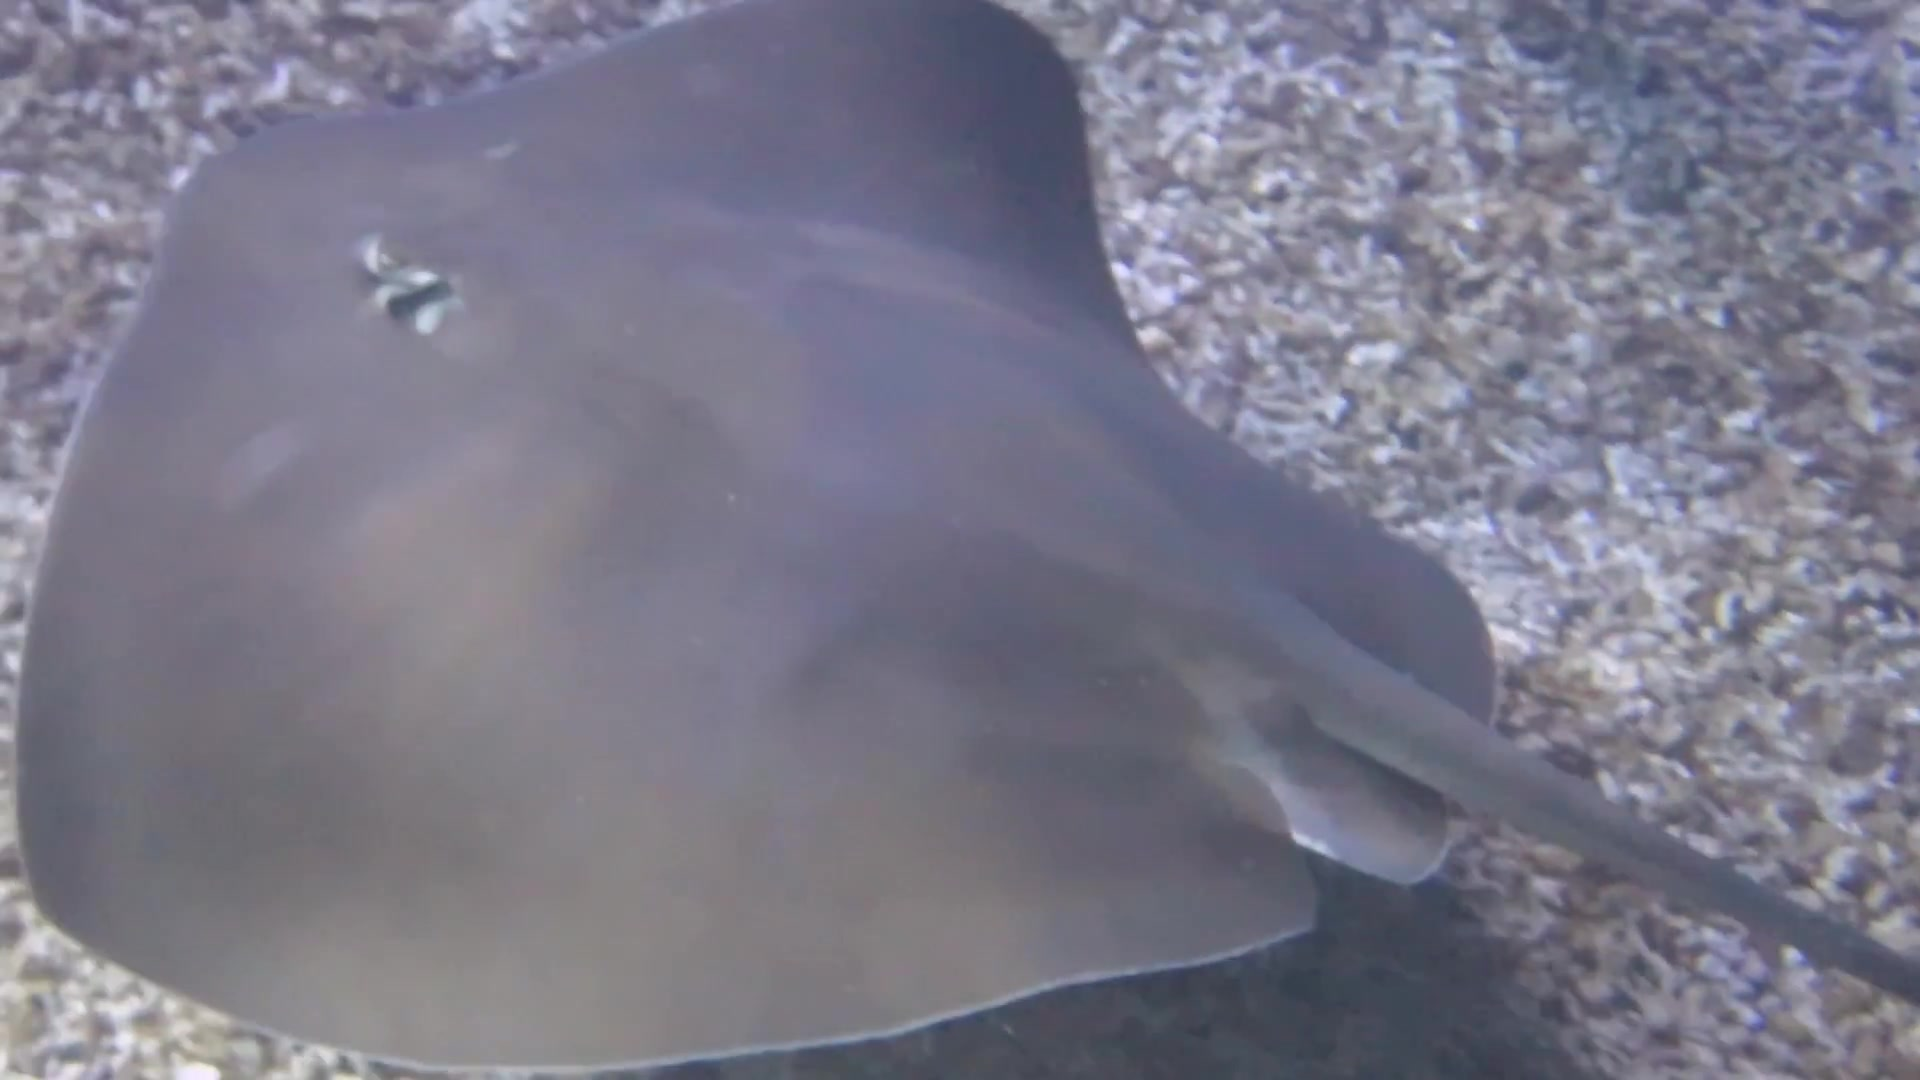Dasyatis akajei: (15, 1, 1826, 1080)
